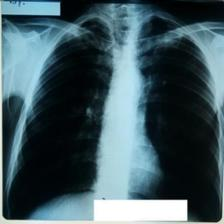tuberculosis: (3, 11, 221, 223)
